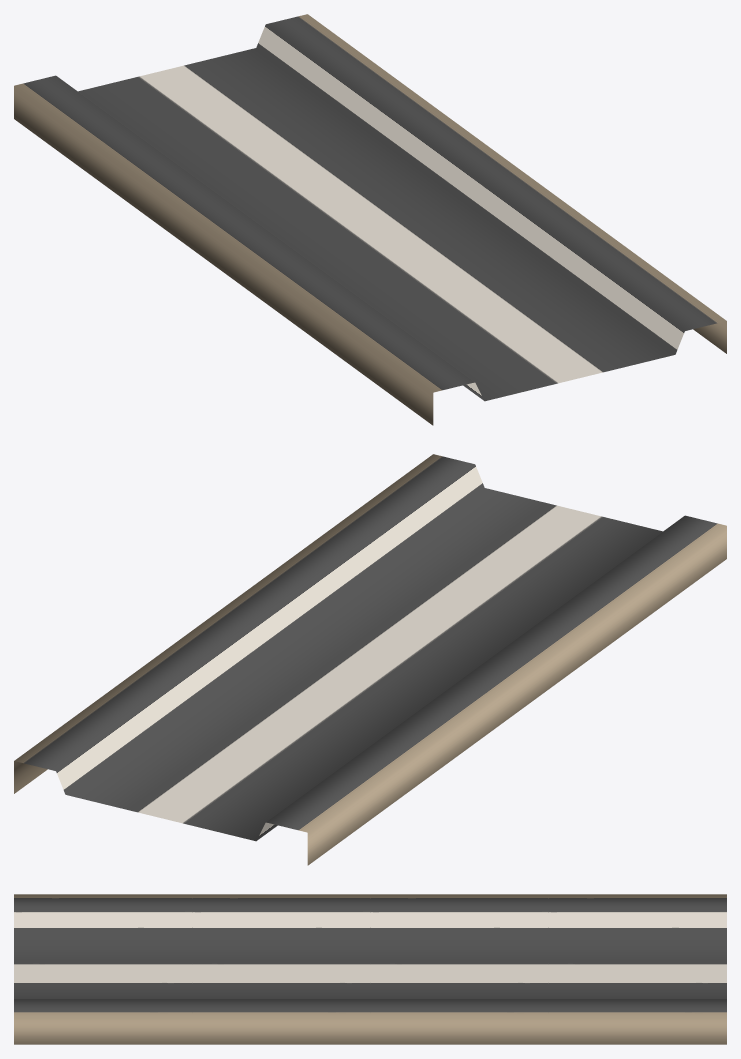
File: roadtest1.FBX
3 views of the same model, one above another, from view 1: azimuth 30°, elevation 25°; view 2: azimuth 150°, elevation 25°; view 3: azimuth 270°, elevation 25° (orthographic). The views are drawn at different scales.
Visible parts, largest first — view 1: Plane001; view 2: Plane001; view 3: Plane001.
Boxes of the visible parts, <box> form: Plane001: <box>14,14,726,425</box>; Plane001: <box>14,454,726,865</box>; Plane001: <box>14,894,726,1044</box>.
Bounding box in the file's own units: 77.62 × 8.4 × 192.
